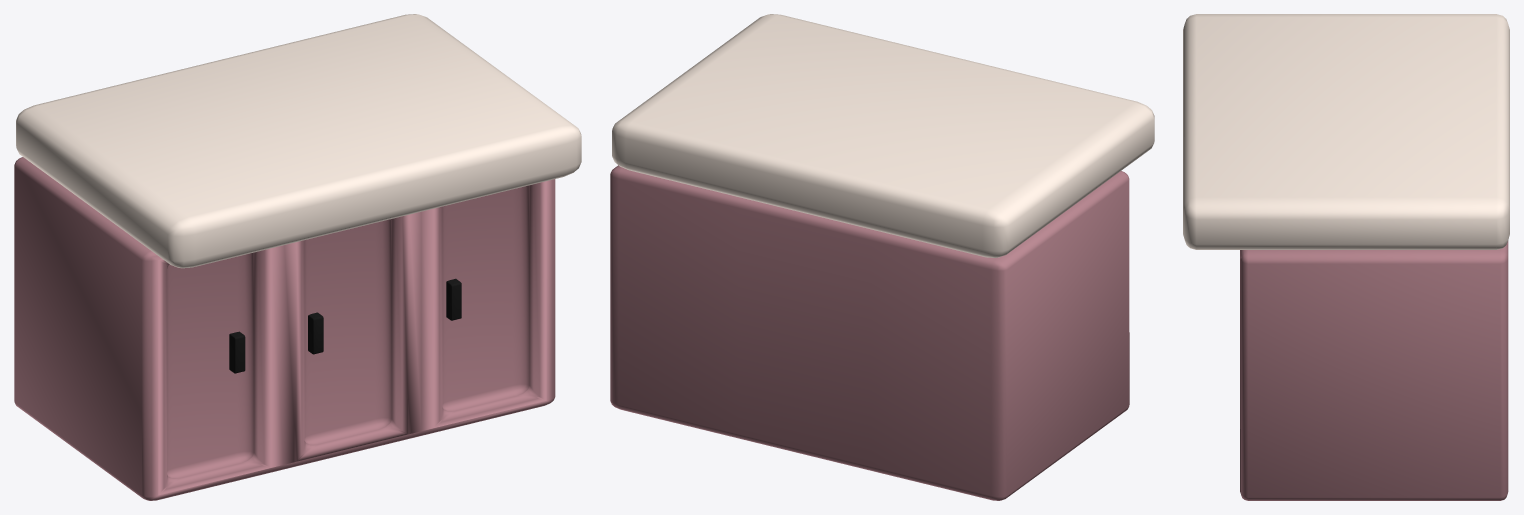
File: Cabinets.fbx
3 views of the same model, side by side, from view 1: azimuth 30°, elevation 25°; view 2: azimuth 150°, elevation 25°; view 3: azimuth 270°, elevation 25° (orthographic). The views are drawn at different scales.
Visible parts, largest first — view 1: Cabinets, Countertop, Handle, Handle.002, Handle.001; view 2: Cabinets, Countertop; view 3: Countertop, Cabinets.
Boxes of the visible parts, x1,y1,x2,y2 form: Cabinets: [14, 157, 555, 500]; Countertop: [16, 14, 581, 268]; Handle: [229, 331, 245, 373]; Handle.002: [446, 278, 461, 320]; Handle.001: [308, 312, 323, 354]; Cabinets: [610, 165, 1129, 500]; Countertop: [612, 14, 1154, 257]; Countertop: [1183, 14, 1509, 249]; Cabinets: [1240, 241, 1508, 500].
Bounding box in the file's own units: 123 × 85.32 × 84.89.
